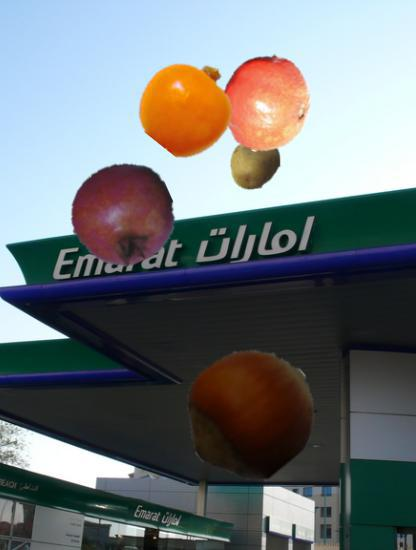Clementine: (216, 52, 317, 153)
Nut: (182, 346, 317, 481)
Physalis: (140, 56, 239, 155)
Pomegranate: (70, 162, 175, 267)
Potato: (229, 137, 283, 191)
